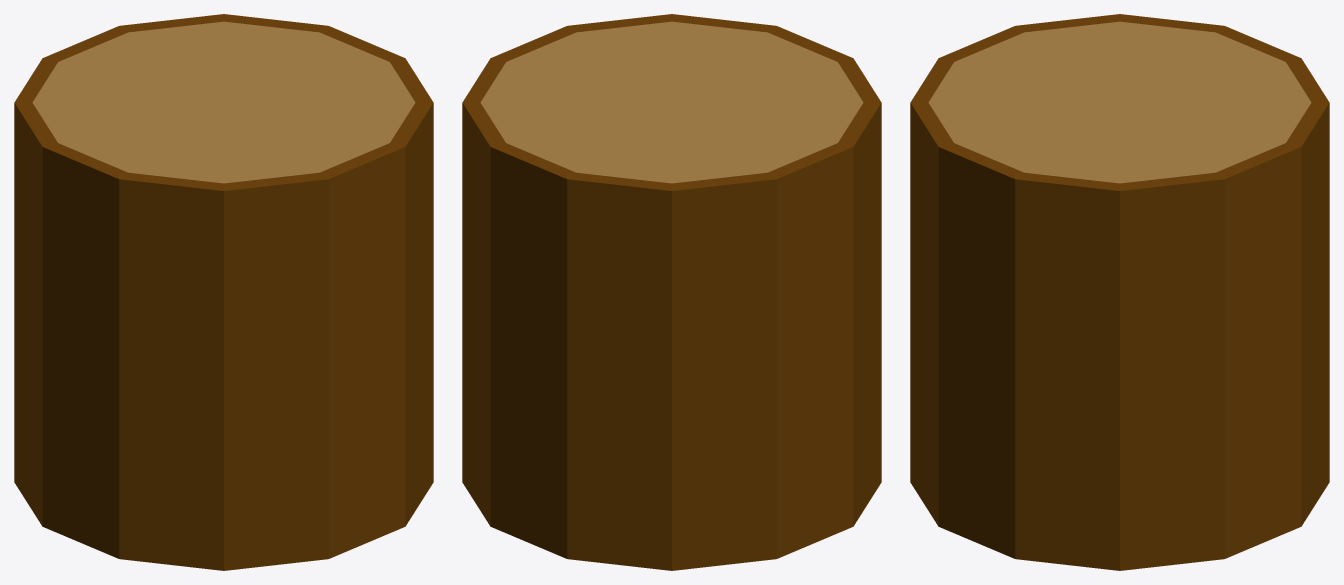
Rendered from Log.fbx.
3 renders of one model, left to right at view 1: azimuth 30°, elevation 25°; view 2: azimuth 150°, elevation 25°; view 3: azimuth 270°, elevation 25°, orthographic.
Parts seen in each view (by area): view 1: pCylinder2; view 2: pCylinder2; view 3: pCylinder2.
Boxes of the visible parts, x1,y1,x2,y2 form: pCylinder2: (14, 14, 433, 570); pCylinder2: (462, 14, 881, 570); pCylinder2: (910, 14, 1329, 570).
Size of the model in its own units: 2 by 2 by 2.
